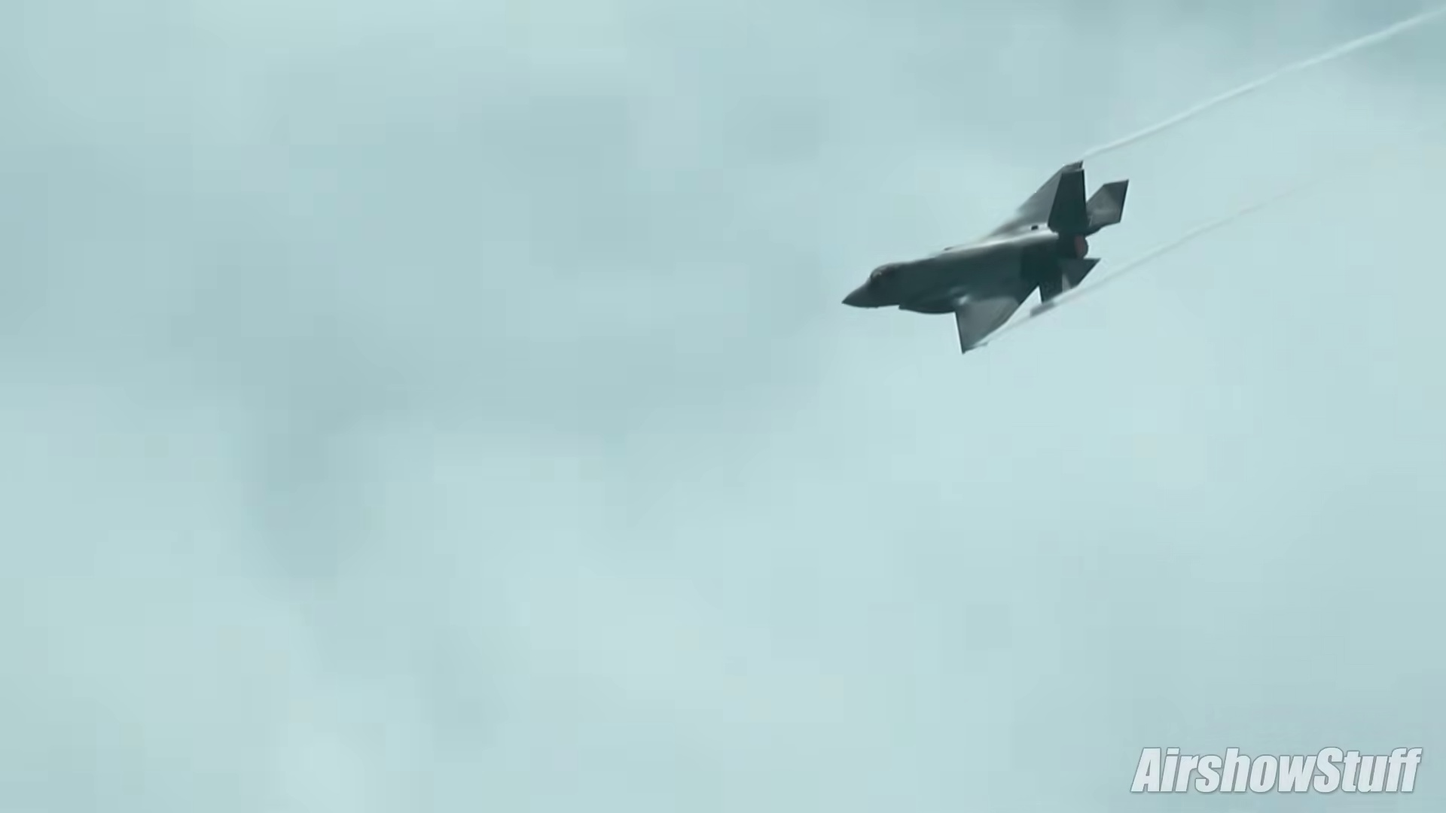F35: (837, 154, 1132, 359)
